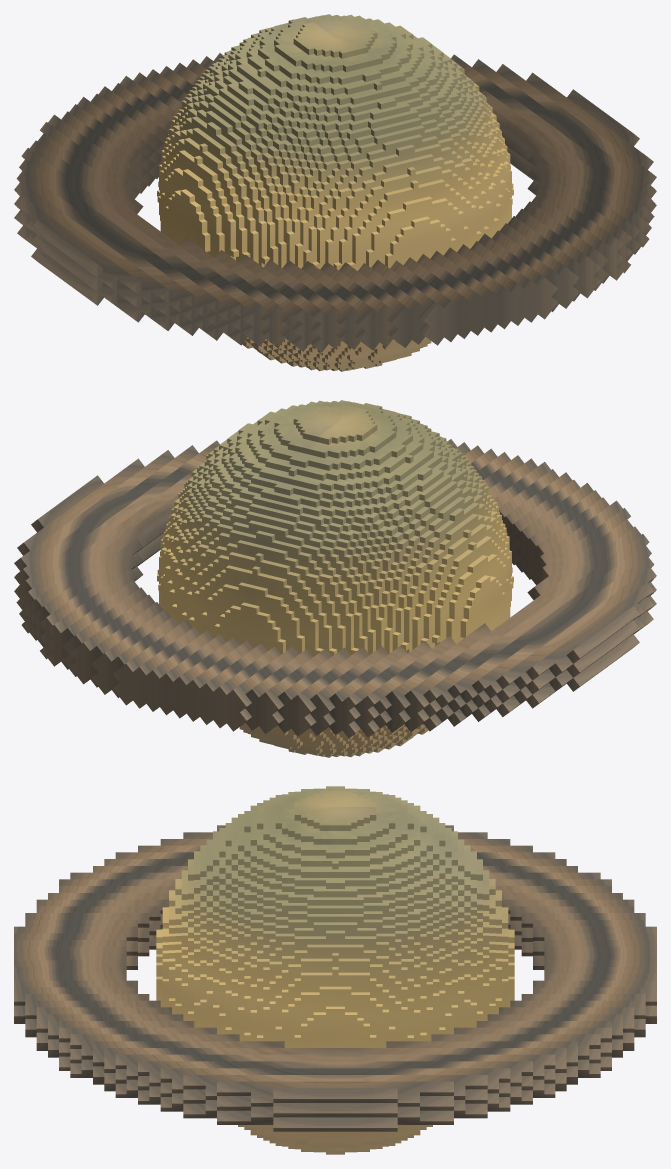
Rendered from 06_Saturn.fbx.
3 views of the same model, one above another, from view 1: azimuth 30°, elevation 25°; view 2: azimuth 150°, elevation 25°; view 3: azimuth 270°, elevation 25° (orthographic). The views are drawn at different scales.
Parts seen in each view (by area): view 1: 06_Saturn_Ring1, 06_Saturn; view 2: 06_Saturn_Ring1, 06_Saturn; view 3: 06_Saturn_Ring1, 06_Saturn.
Boxes of the visible parts, bbox=[...] form: 06_Saturn_Ring1: bbox=[14, 53, 656, 352]; 06_Saturn: bbox=[157, 14, 513, 371]; 06_Saturn_Ring1: bbox=[14, 439, 656, 738]; 06_Saturn: bbox=[157, 400, 513, 757]; 06_Saturn_Ring1: bbox=[14, 825, 656, 1131]; 06_Saturn: bbox=[156, 786, 514, 1154].
Bounding box in the file's own units: 2.89 × 1.58 × 2.84.
